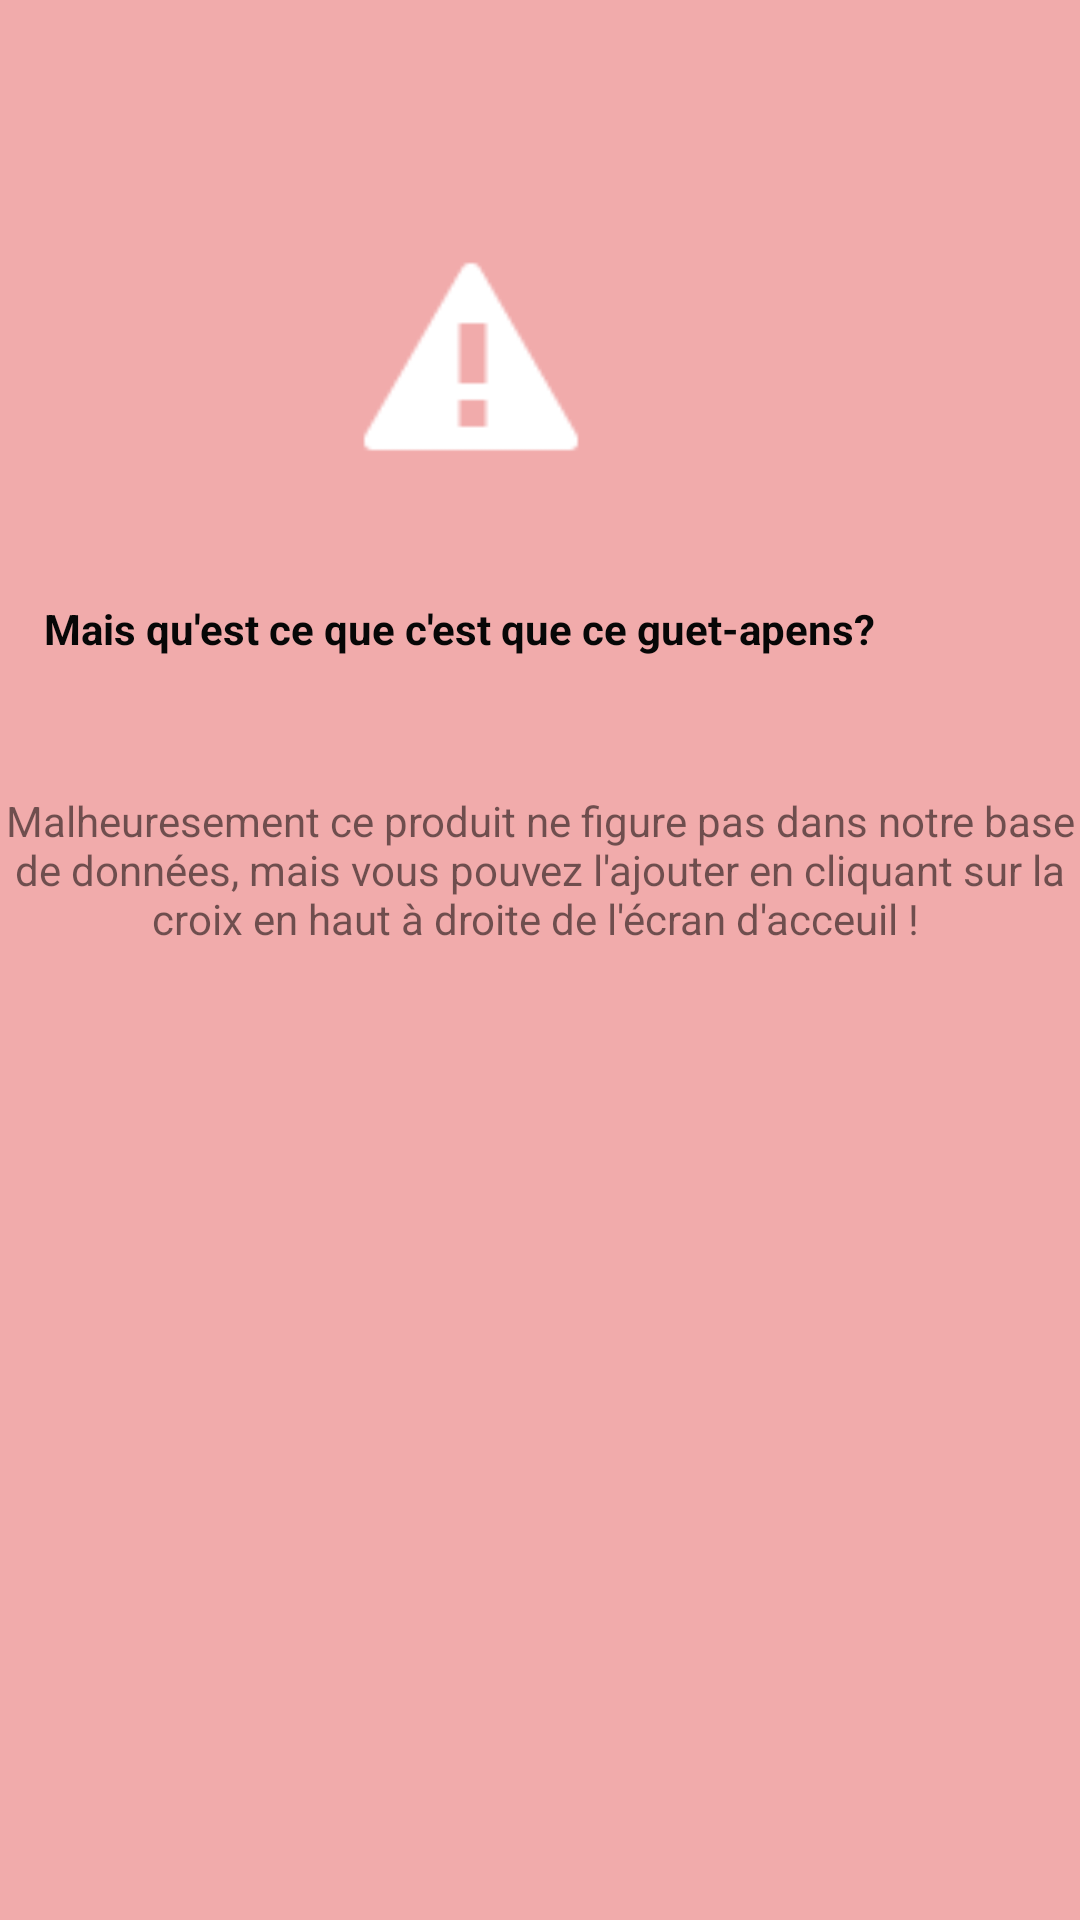

Locate icon controls on the screen. Image size 1080px x 1920px, boxes as [x1, y1, x2, y2].
error: [364, 263, 578, 451]
